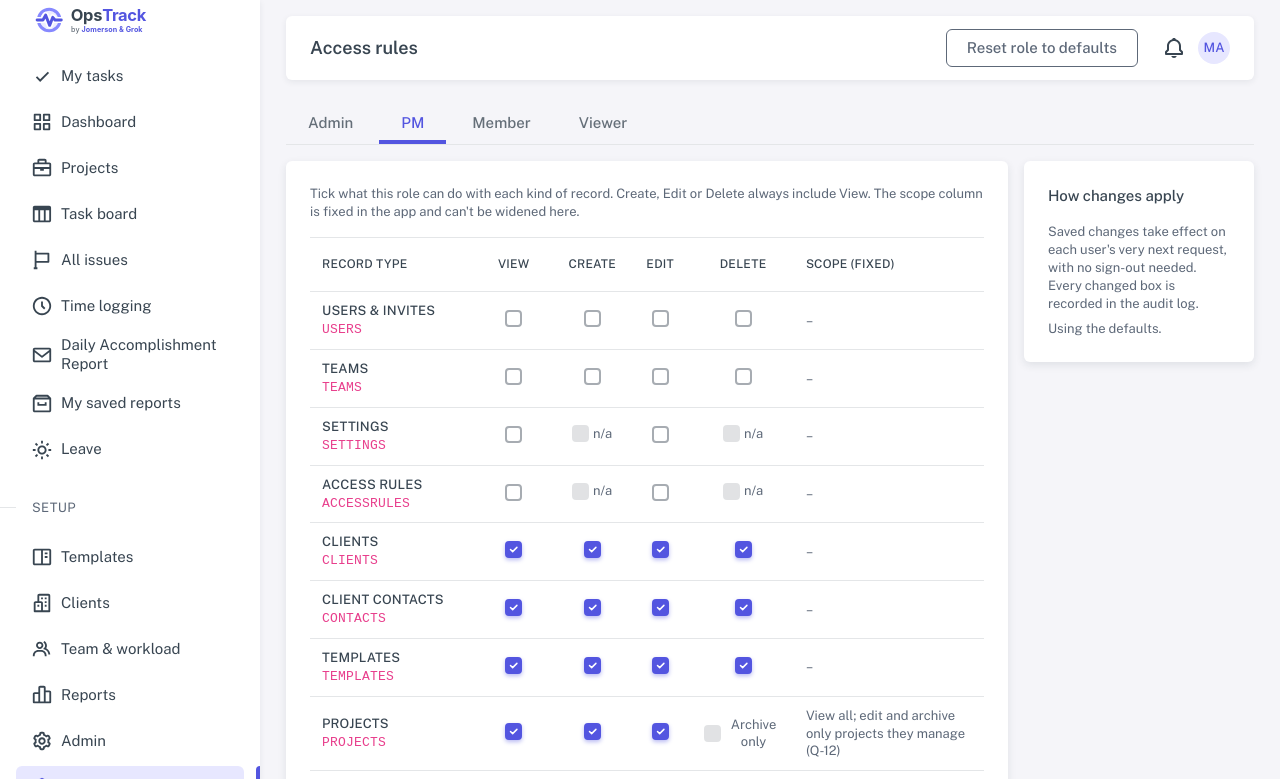
Test case: Access rules screen (doc 11, mockup v0.5.2) › AC-33.5 a 409 shows the conflict message with Reload
This screenshot has width=1280, height=779.
expect the text "clients" is shown: met, box [322,553,378,568]
Click the checkbox named "Delete Clients" at (743,550), box [735,541,752,558]
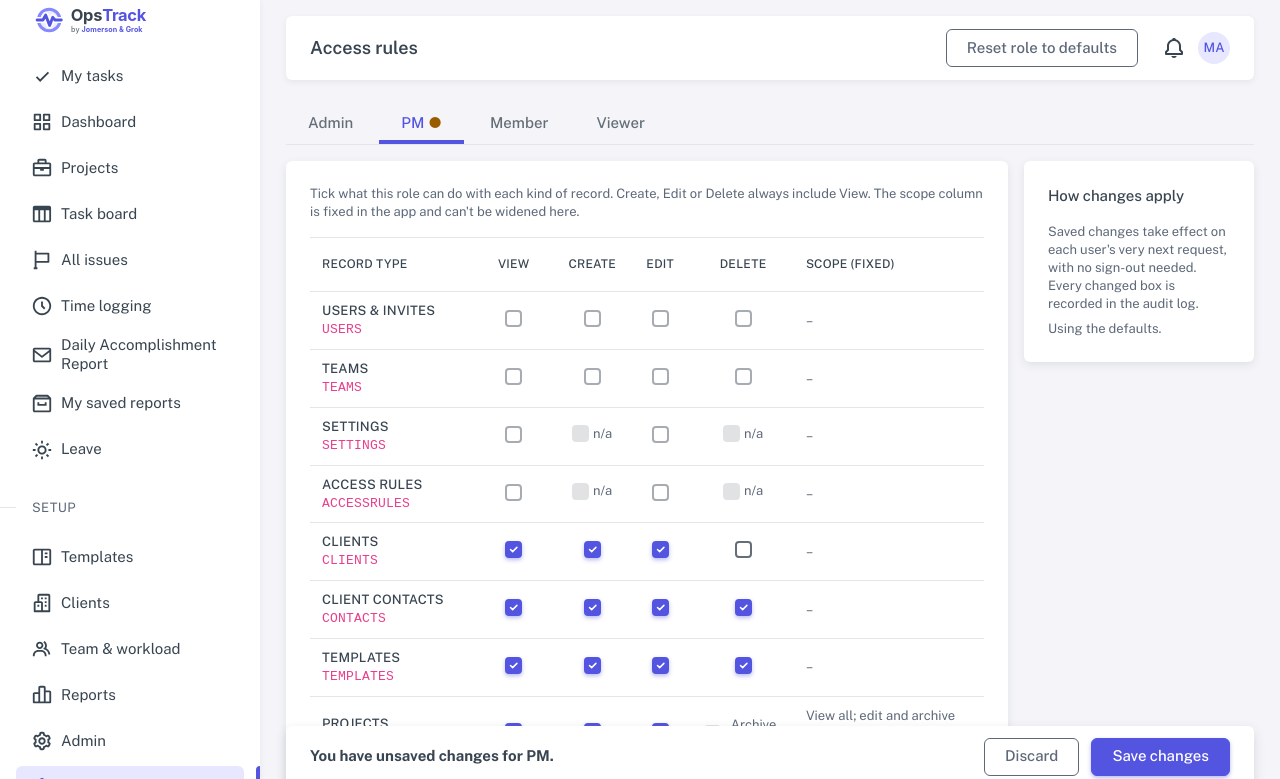
Click the button "Save changes" at (1161,757), box [1091,738,1230,776]
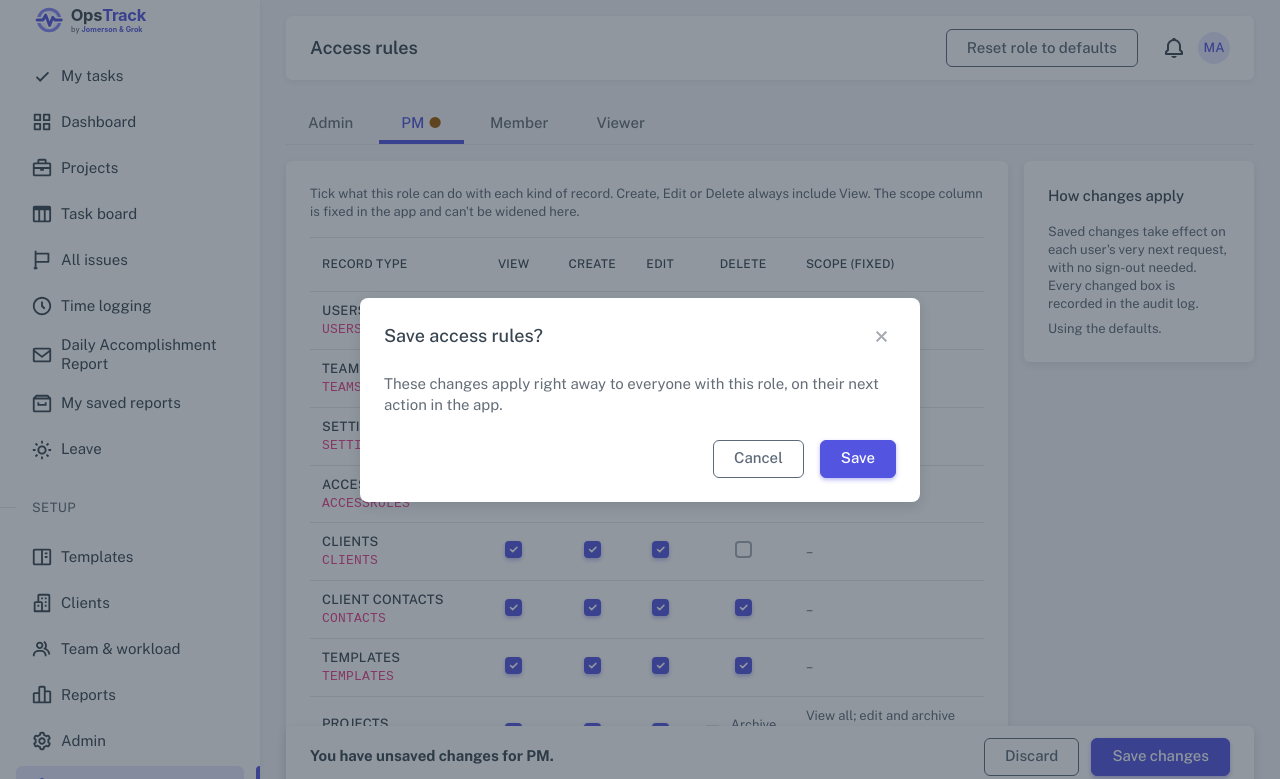
Click the button "Save" at (858,459), box [820,440,896,478]
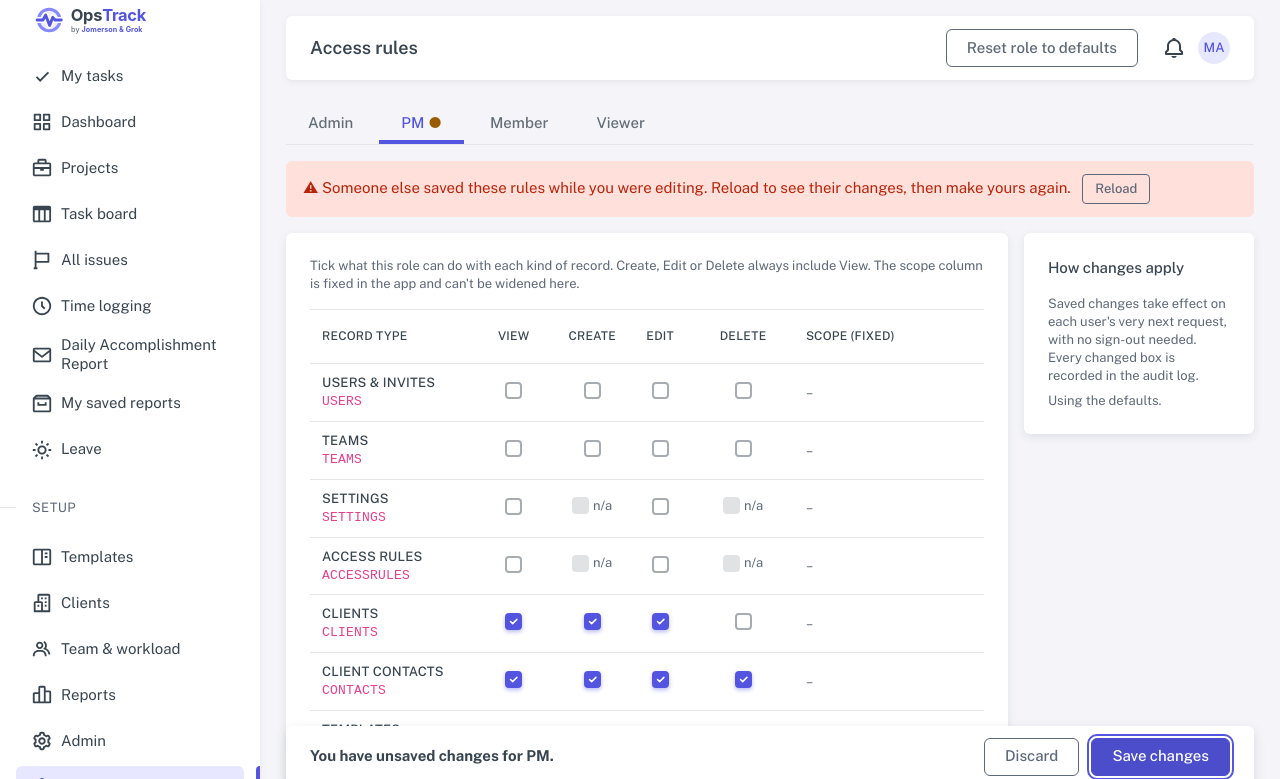
expect the text "Someone else saved these rules while you were editing." is shown: met, box [322,179,1071,196]
Click the button "Reload" at (1116,189), box [1082,174,1150,204]
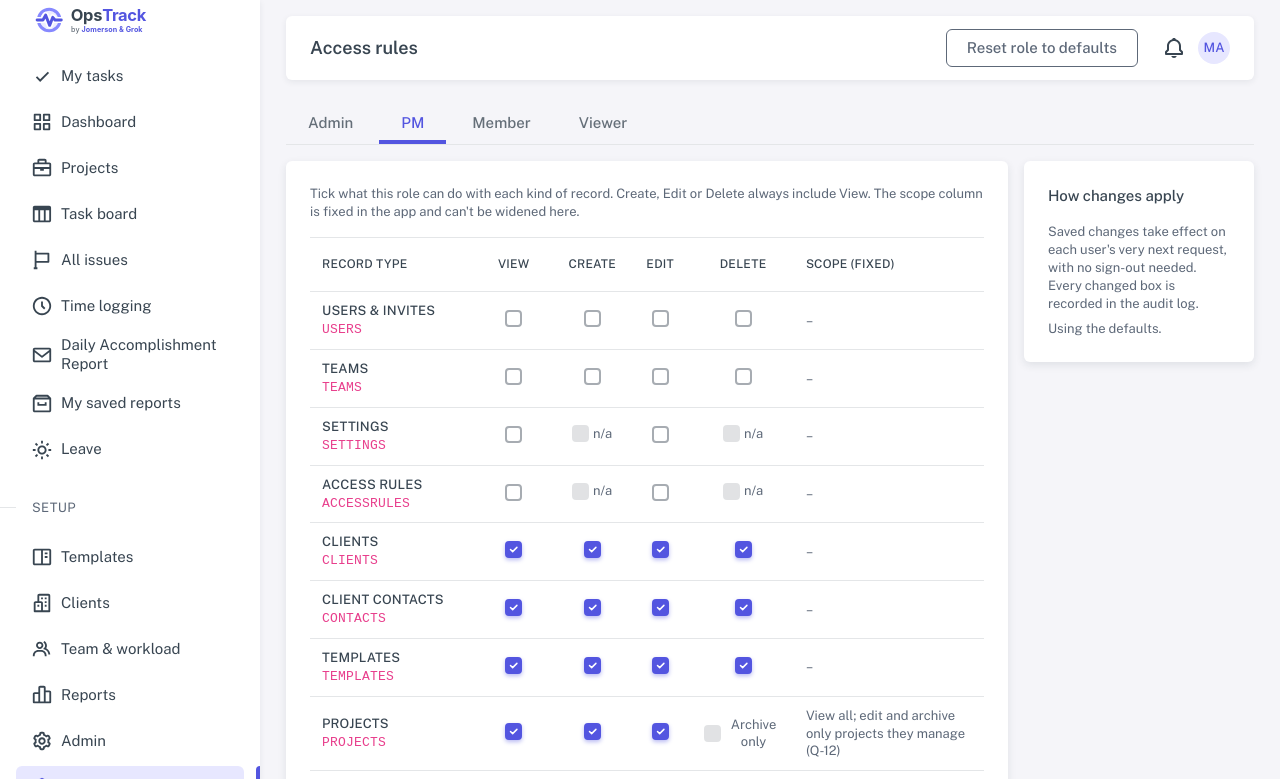
expect the text "You have unsaved changes" is gone: met
